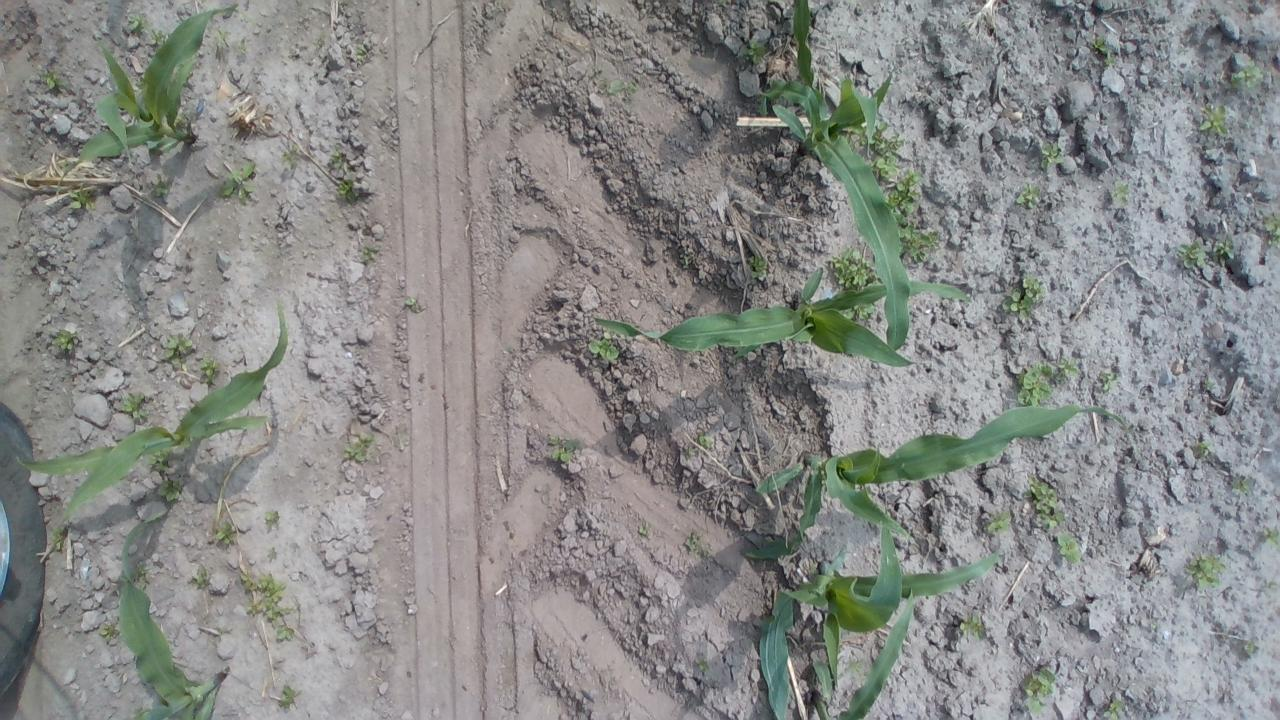Maize: (740, 404, 1130, 562), (14, 296, 290, 518), (756, 0, 912, 358), (754, 521, 1001, 720), (595, 268, 973, 370), (55, 0, 240, 195), (116, 510, 227, 720), (808, 590, 915, 720)
Weeds: (240, 567, 296, 642), (1015, 355, 1078, 410), (891, 207, 942, 266), (826, 247, 882, 292), (1024, 476, 1065, 530), (848, 119, 905, 156), (1002, 276, 1046, 322), (1020, 667, 1056, 716), (884, 168, 924, 212), (215, 162, 256, 202), (1184, 550, 1224, 590), (162, 332, 195, 380), (117, 386, 157, 424), (592, 64, 638, 96), (547, 434, 586, 466), (1230, 58, 1265, 90), (1198, 102, 1228, 138), (1175, 239, 1209, 268), (343, 432, 375, 462), (976, 510, 1011, 536), (1090, 34, 1116, 67), (864, 156, 898, 181), (68, 183, 97, 212), (1057, 530, 1081, 565), (144, 445, 175, 472), (326, 144, 352, 176), (1014, 182, 1042, 209), (198, 351, 220, 384), (1040, 139, 1065, 168), (838, 302, 878, 320), (50, 328, 80, 351), (1262, 210, 1280, 248), (959, 614, 985, 640), (210, 520, 237, 545), (276, 142, 300, 170), (687, 532, 712, 558), (158, 477, 182, 504), (742, 40, 769, 63), (276, 684, 298, 712), (746, 254, 768, 280), (1213, 240, 1235, 264), (191, 565, 211, 591), (135, 560, 151, 592), (1104, 697, 1126, 720), (335, 180, 356, 204), (1108, 179, 1130, 201), (150, 173, 170, 197), (42, 70, 66, 90), (360, 242, 380, 264), (126, 14, 146, 34), (351, 40, 369, 62), (1232, 479, 1252, 498), (148, 28, 168, 47), (1263, 526, 1280, 548), (213, 27, 230, 49), (50, 526, 64, 552), (96, 622, 116, 640), (92, 22, 112, 40), (1194, 439, 1214, 456), (175, 109, 192, 128), (128, 704, 148, 720), (1102, 372, 1118, 392), (175, 2, 197, 16), (699, 431, 716, 449), (694, 656, 712, 673), (405, 296, 421, 314), (263, 511, 279, 528), (264, 546, 278, 563), (1201, 376, 1216, 390), (638, 522, 654, 535), (849, 659, 864, 672), (236, 38, 248, 53), (135, 77, 144, 97), (1246, 640, 1258, 654), (680, 253, 690, 268), (310, 36, 322, 48), (1263, 580, 1277, 590), (62, 160, 70, 170)
